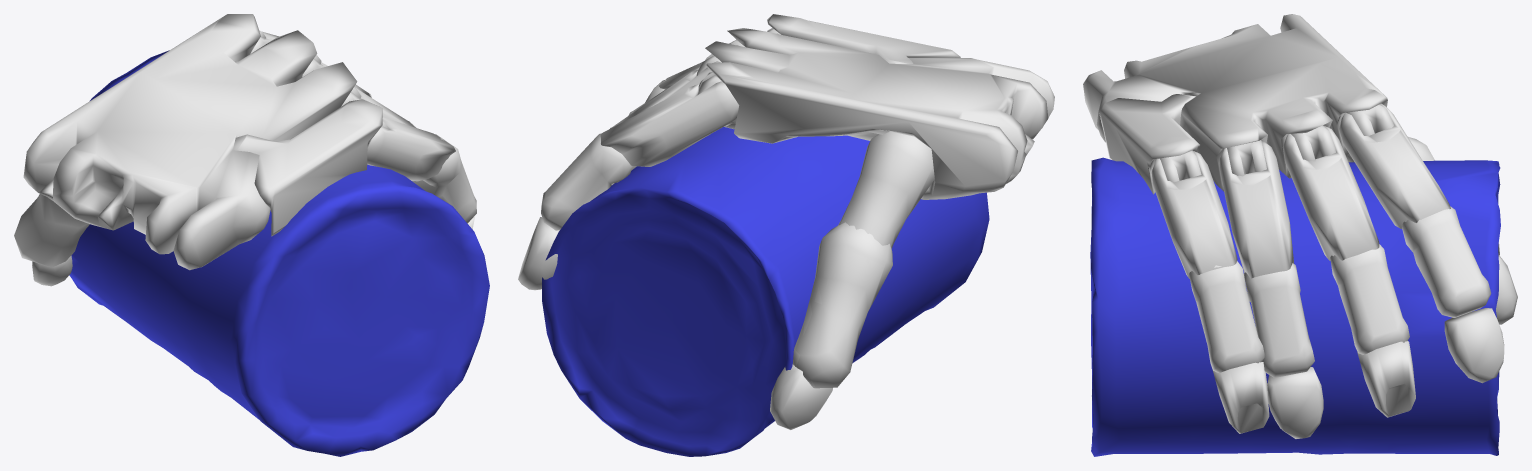
File: shadow_can.glb
3 renders of one model, left to right at view 1: azimuth 30°, elevation 25°; view 2: azimuth 150°, elevation 25°; view 3: azimuth 270°, elevation 25°, orthographic. The views are drawn at different scales.
Visible parts, largest first — view 1: obj, body_1, body_17, body_19, body_26, body_20, body_25, body_27, body_13; view 2: obj, body_1, body_26, body_24, body_3, body_4, body_17, body_27, body_5, body_25, body_8; view 3: obj, body_1, body_8, body_13, body_3, body_19, body_4, body_17, body_20, body_9, body_14, body_5 (+8 smaller).
Part boxes in pixels (left/top/right/bottom): obj: left=69, top=50, right=489, bottom=456; body_1: left=23, top=14, right=357, bottom=270; body_17: left=233, top=99, right=382, bottom=236; body_19: left=367, top=117, right=455, bottom=181; body_26: left=14, top=194, right=80, bottom=266; body_20: left=412, top=134, right=476, bottom=223; body_25: left=42, top=199, right=89, bottom=267; body_27: left=32, top=255, right=72, bottom=286; body_13: left=341, top=88, right=415, bottom=127; obj: left=542, top=127, right=989, bottom=456; body_1: left=705, top=28, right=1054, bottom=199; body_26: left=795, top=222, right=892, bottom=388; body_24: left=838, top=131, right=934, bottom=248; body_3: left=600, top=81, right=739, bottom=166; body_4: left=541, top=133, right=632, bottom=230; body_17: left=767, top=14, right=960, bottom=63; body_27: left=770, top=364, right=832, bottom=429; body_5: left=518, top=217, right=559, bottom=290; body_25: left=792, top=222, right=892, bottom=388; body_8: left=612, top=61, right=720, bottom=127; obj: left=1090, top=157, right=1500, bottom=456; body_1: left=1083, top=14, right=1387, bottom=191; body_8: left=1282, top=125, right=1379, bottom=260; body_13: left=1219, top=139, right=1294, bottom=278; body_3: left=1339, top=103, right=1450, bottom=228; body_19: left=1151, top=151, right=1237, bottom=278; body_4: left=1402, top=206, right=1491, bottom=317; body_17: left=1099, top=94, right=1199, bottom=194; body_20: left=1189, top=261, right=1264, bottom=372; body_9: left=1330, top=244, right=1409, bottom=354; body_14: left=1244, top=263, right=1314, bottom=377; body_5: left=1444, top=308, right=1504, bottom=383.
Size of the model in its own units: 0.00171 by 0.00132 by 0.00149.
